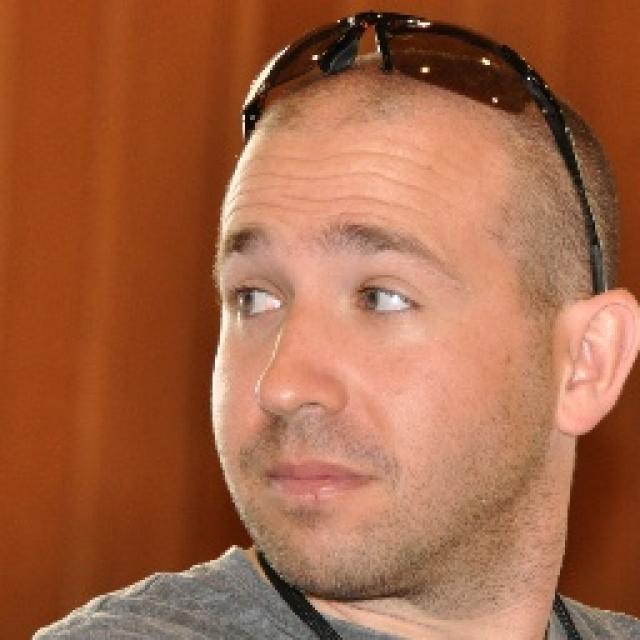earlobe: (552, 288, 640, 442)
